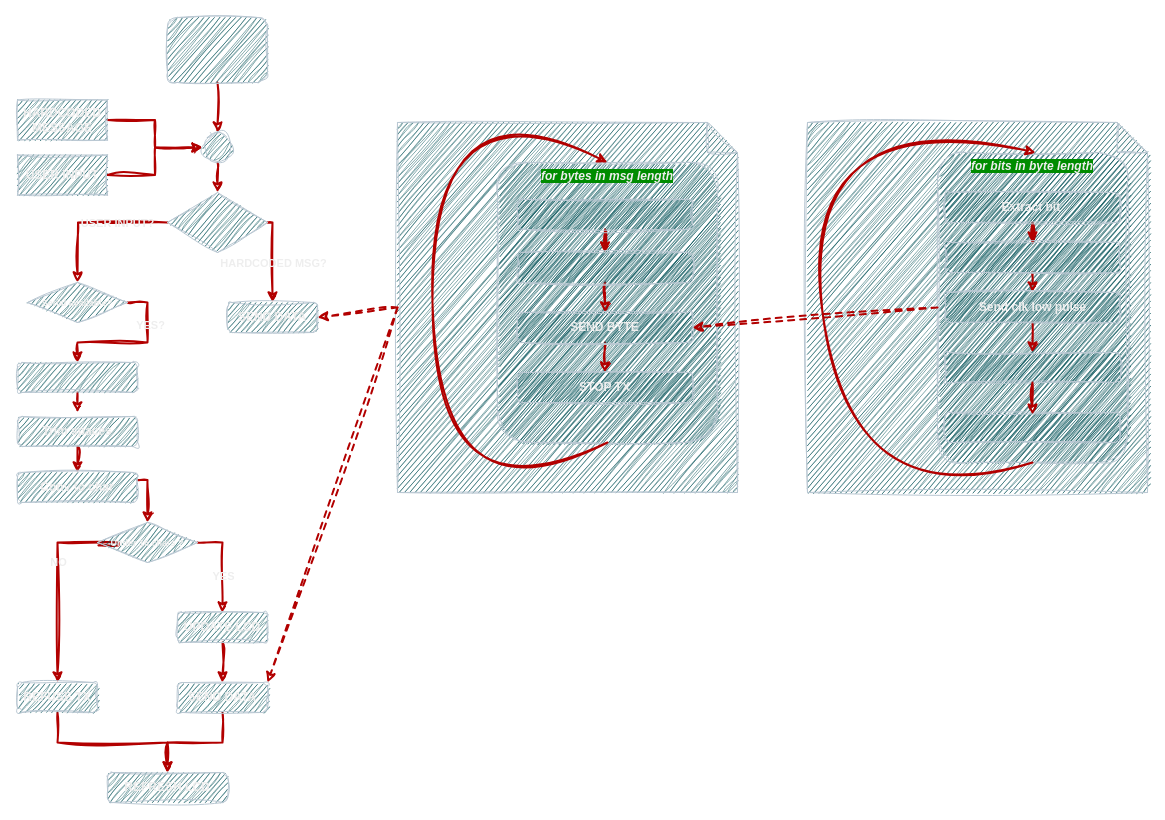
This 1165x820 diagram has some shape labels left out. Each missing label, with the centre of its shape:
"INIT SERIAL, INIT I2C, SET PINS, INIT LCD" belongs at (217,49).
"MSG TYPE" belongs at (217,222).
"Read str until '\n'" belongs at (77,377).
"SELCT BYTE" belongs at (604,213).
"Send clk high pulse" belongs at (1032,427).
"UPDATE BYTE ON LCD" belongs at (604,267).
"Write bit" belongs at (1032,257).
"Write bit on LCD" belongs at (1032,367).
